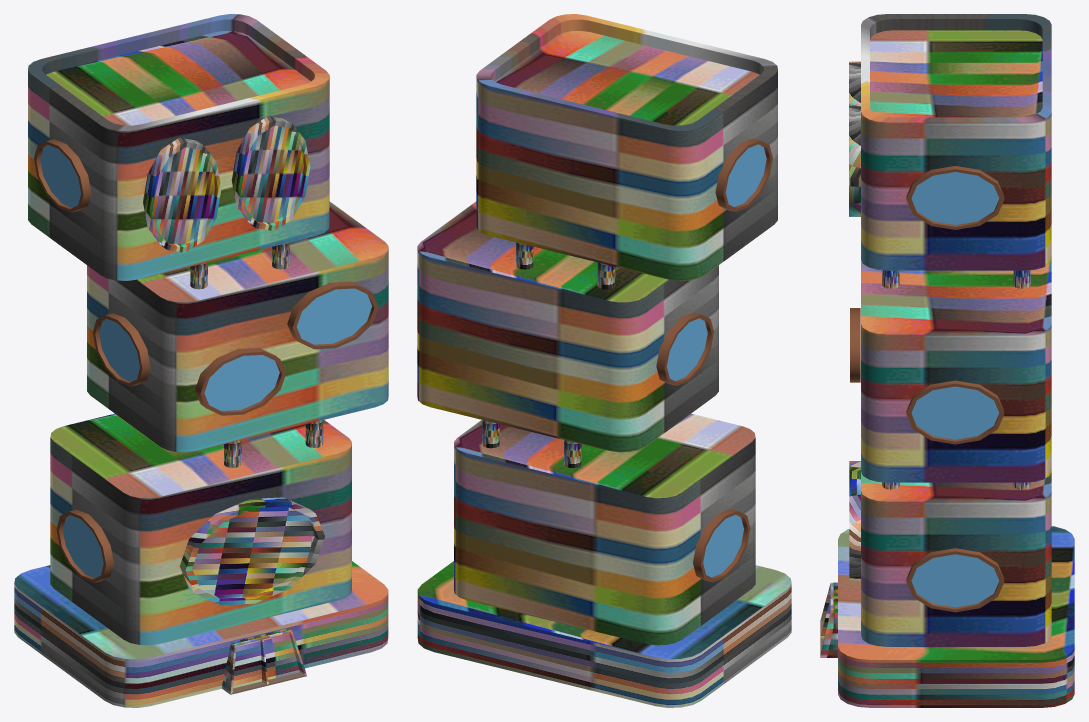
The model's file is SimpleBuilding3.fbx.
The picture shows the model from 3 angles, left to right: view 1: azimuth 30°, elevation 25°; view 2: azimuth 150°, elevation 25°; view 3: azimuth 270°, elevation 25°; orthographic projection.
Visible parts, largest first — view 1: Cylinder.040; view 2: Cylinder.040; view 3: Cylinder.040.
Boxes of the visible parts, x1=… form: Cylinder.040: x1=14, y1=14, x2=388, y2=707; Cylinder.040: x1=417, y1=14, x2=791, y2=707; Cylinder.040: x1=820, y1=14, x2=1074, y2=707.
Bounding box in the file's own units: 3197 × 5813 × 2387.
Materials: 1 (1 with a texture image).
